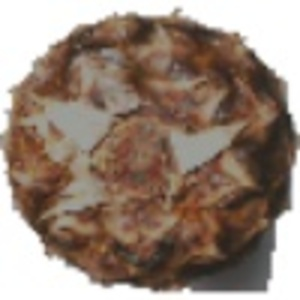abacaxi: (4, 11, 288, 290)
